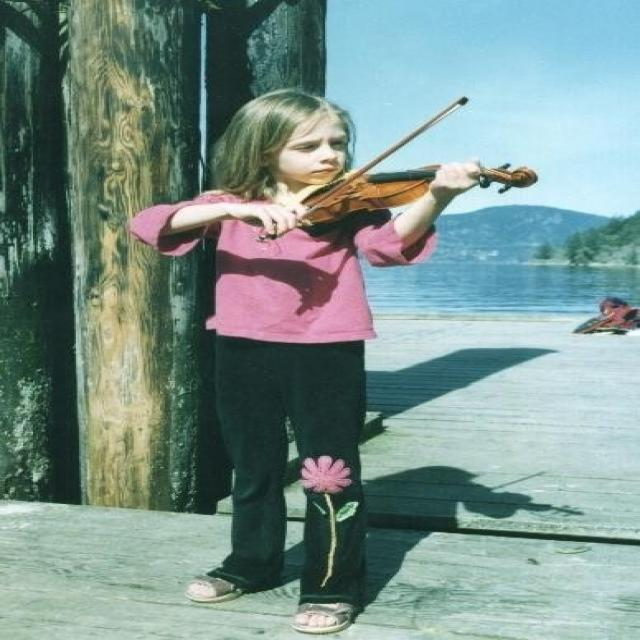violin: (300, 160, 535, 228)
